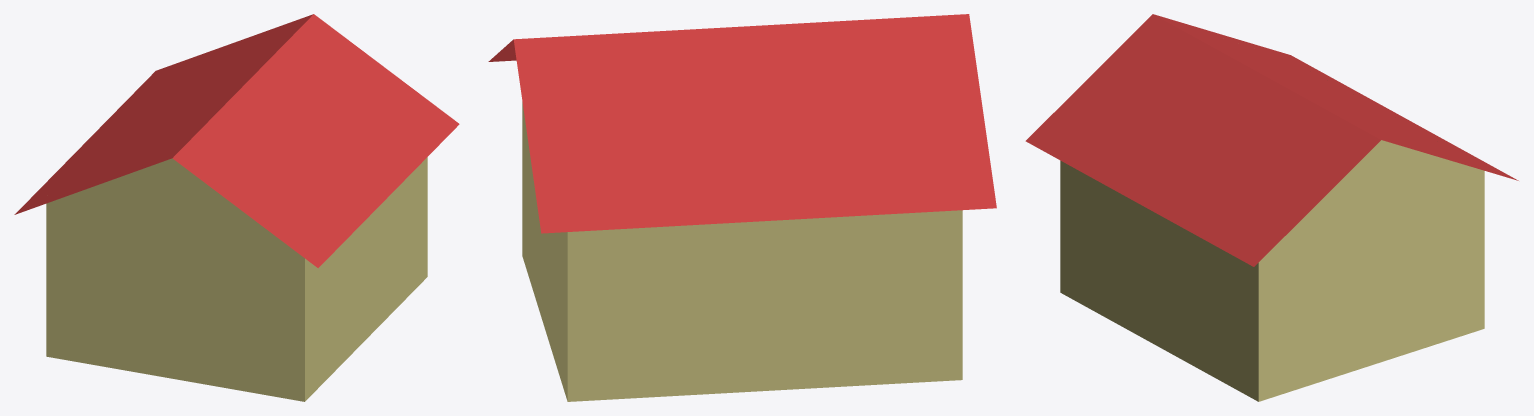
3 views of the same model, side by side, from view 1: azimuth 30°, elevation 25°; view 2: azimuth 150°, elevation 25°; view 3: azimuth 270°, elevation 25° (orthographic). The views are drawn at different scales.
Bounding box in the file's own units: 20.07 × 19.76 × 10.39.
